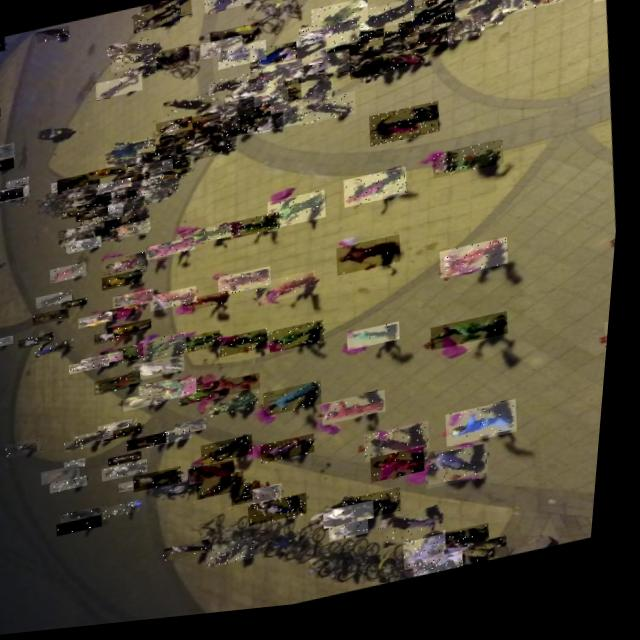Person: (451, 410, 527, 457), (370, 109, 444, 154), (431, 451, 500, 498), (436, 321, 516, 359), (386, 513, 455, 556), (443, 246, 515, 287), (434, 148, 509, 187), (370, 429, 440, 470), (433, 533, 502, 574), (345, 174, 412, 215), (339, 242, 407, 282), (269, 195, 332, 235), (298, 22, 364, 60), (310, 3, 371, 42), (447, 5, 506, 45), (336, 42, 405, 76), (327, 397, 394, 432), (348, 495, 411, 531), (425, 18, 486, 55), (453, 546, 519, 580), (397, 5, 458, 41), (269, 386, 330, 422), (258, 276, 322, 310), (407, 26, 466, 62), (273, 41, 330, 78), (255, 499, 317, 533), (299, 97, 359, 132), (392, 35, 451, 70), (377, 455, 435, 490), (411, 539, 459, 579), (358, 6, 416, 39), (295, 55, 353, 87), (273, 326, 331, 358), (209, 74, 267, 105), (231, 76, 288, 107), (226, 216, 285, 245), (208, 439, 263, 469), (267, 440, 323, 469), (221, 271, 277, 300), (214, 541, 266, 572), (424, 0, 481, 28), (259, 105, 307, 138), (504, 0, 567, 25), (252, 63, 306, 92), (251, 85, 305, 114), (320, 38, 372, 68), (217, 44, 269, 74), (352, 329, 407, 357), (185, 381, 240, 409), (331, 508, 384, 537), (139, 0, 193, 28), (144, 335, 194, 365), (205, 120, 262, 146), (224, 333, 275, 362), (203, 475, 254, 504), (250, 46, 299, 76), (138, 357, 192, 384), (276, 71, 328, 99), (209, 26, 261, 54), (212, 396, 268, 422), (145, 155, 195, 184), (113, 38, 163, 67), (374, 54, 428, 80), (214, 377, 268, 403), (422, 560, 474, 587), (242, 94, 292, 122), (132, 7, 182, 35), (143, 48, 192, 76), (337, 34, 387, 61), (140, 469, 191, 495), (183, 226, 236, 251), (295, 83, 337, 114), (128, 146, 180, 171), (95, 75, 145, 101), (194, 464, 244, 490), (164, 94, 214, 119), (225, 87, 274, 112), (154, 289, 203, 314), (149, 240, 200, 264), (113, 59, 159, 85), (286, 59, 330, 86), (99, 373, 148, 397), (171, 542, 222, 565), (135, 178, 183, 202), (68, 506, 116, 530), (106, 253, 152, 278), (181, 334, 228, 358), (110, 50, 155, 75), (223, 108, 274, 130), (195, 137, 236, 164), (212, 101, 258, 125), (105, 345, 151, 369), (350, 61, 392, 87), (102, 197, 149, 220), (200, 39, 245, 63), (122, 163, 167, 187), (83, 203, 128, 227), (183, 129, 226, 154), (59, 172, 104, 195), (109, 462, 156, 484), (375, 33, 421, 55), (180, 115, 224, 138), (148, 140, 190, 164), (162, 381, 204, 405), (337, 525, 379, 549), (202, 0, 261, 17), (107, 37, 154, 58), (153, 430, 200, 451), (65, 516, 112, 537), (197, 120, 243, 141), (117, 290, 159, 313), (140, 170, 190, 189), (116, 139, 159, 161), (187, 295, 234, 315), (488, 0, 524, 26), (420, 0, 475, 17), (165, 146, 207, 168), (144, 381, 185, 403), (106, 271, 148, 292), (113, 221, 155, 242), (161, 132, 199, 155), (112, 321, 158, 340), (136, 160, 177, 181), (83, 216, 124, 237), (48, 465, 89, 486), (238, 485, 271, 511), (129, 393, 169, 414), (249, 117, 287, 139), (125, 178, 166, 198), (74, 223, 115, 243), (134, 434, 175, 454), (53, 263, 92, 284), (110, 424, 150, 444), (157, 118, 195, 139), (86, 352, 130, 370), (81, 429, 122, 448), (12, 437, 49, 458), (114, 173, 154, 192), (40, 338, 80, 357), (62, 231, 102, 249), (74, 358, 116, 375), (40, 291, 78, 309), (37, 308, 75, 326), (260, 489, 292, 510), (203, 108, 240, 126), (79, 194, 116, 212), (69, 237, 106, 255), (53, 176, 92, 193), (57, 477, 96, 494), (107, 145, 140, 165), (104, 420, 145, 436), (107, 306, 142, 324), (106, 191, 141, 209), (99, 329, 136, 346), (0, 184, 33, 203), (90, 166, 129, 182), (37, 26, 71, 44), (108, 155, 146, 171), (64, 184, 102, 200), (114, 503, 149, 520), (23, 333, 60, 349), (126, 479, 163, 495), (78, 206, 112, 223), (71, 437, 105, 454), (61, 224, 93, 242), (83, 313, 119, 329), (181, 422, 214, 439), (93, 201, 125, 218), (176, 124, 206, 142), (99, 180, 135, 195), (338, 59, 363, 80), (115, 454, 150, 469), (475, 0, 531, 9), (68, 194, 99, 210), (120, 215, 146, 234), (64, 206, 99, 220), (0, 186, 27, 203), (125, 209, 152, 226), (0, 141, 18, 165), (114, 187, 144, 201), (98, 189, 128, 202), (147, 191, 172, 206), (0, 335, 20, 351), (8, 176, 34, 188), (0, 156, 17, 173), (71, 459, 94, 471), (70, 298, 92, 310), (591, 0, 608, 14), (608, 333, 615, 365), (103, 232, 123, 243), (0, 35, 6, 54), (550, 0, 600, 2), (0, 154, 7, 165), (0, 106, 3, 120), (0, 405, 2, 417), (0, 113, 1, 126)
